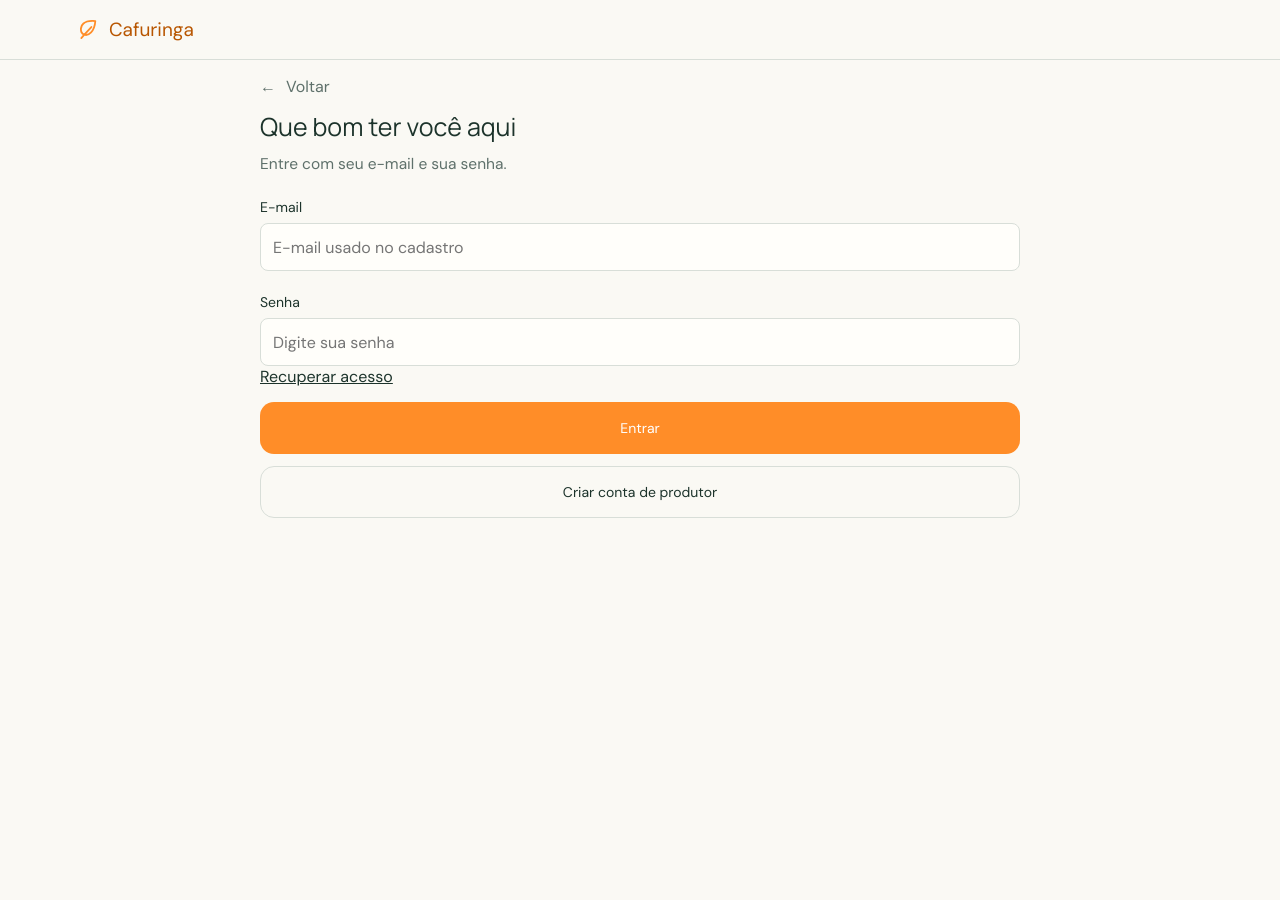
Test case: HU09 — fluxo de autenticação no app › leva o consumidor autenticado à área da conta com o nome dele
In the field labelled "E-mail": (640, 247) [260,223,1020,271], type "gabriela@exemplo.com"
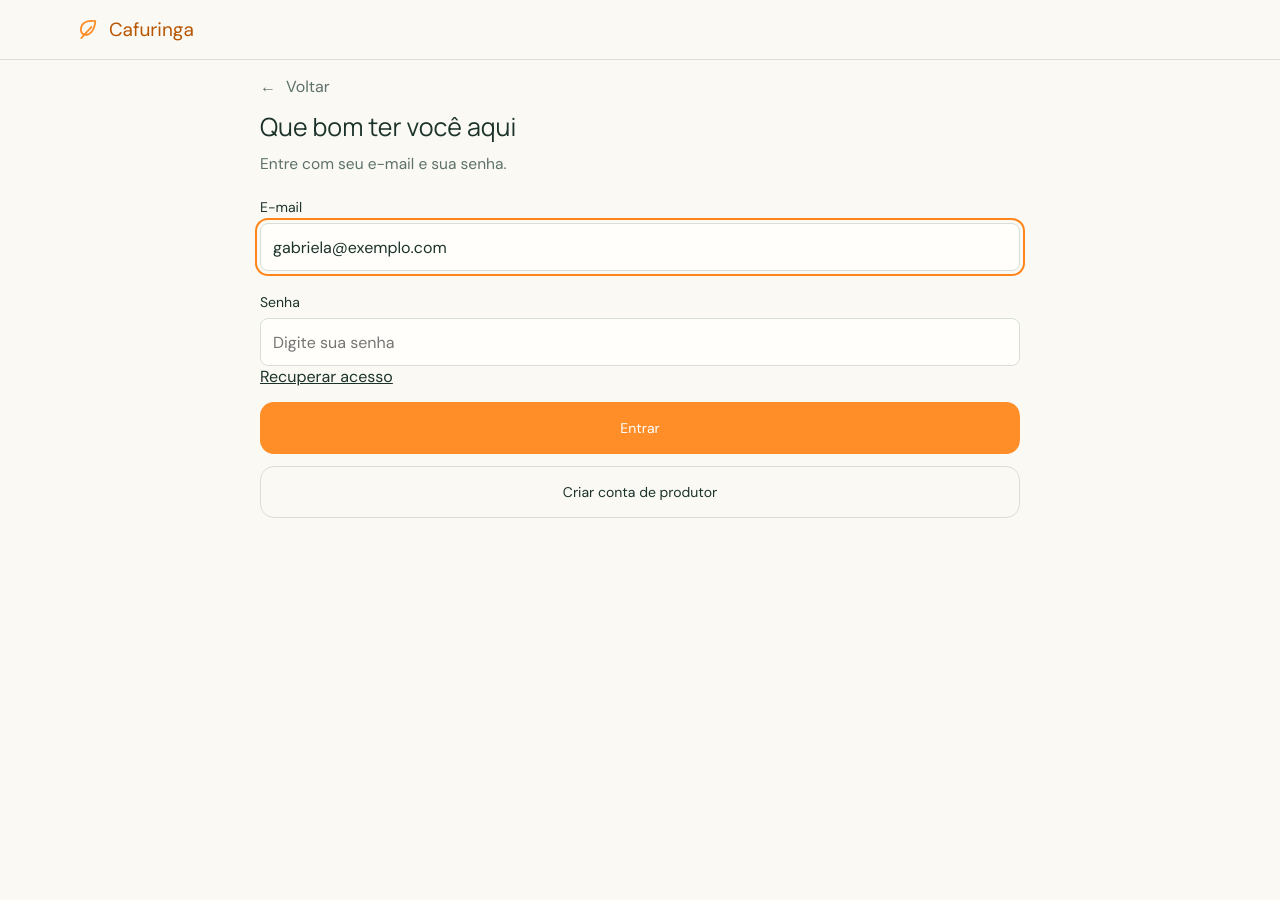
In the password field labelled "Senha": (640, 342) [260,318,1020,366], type "senha123"
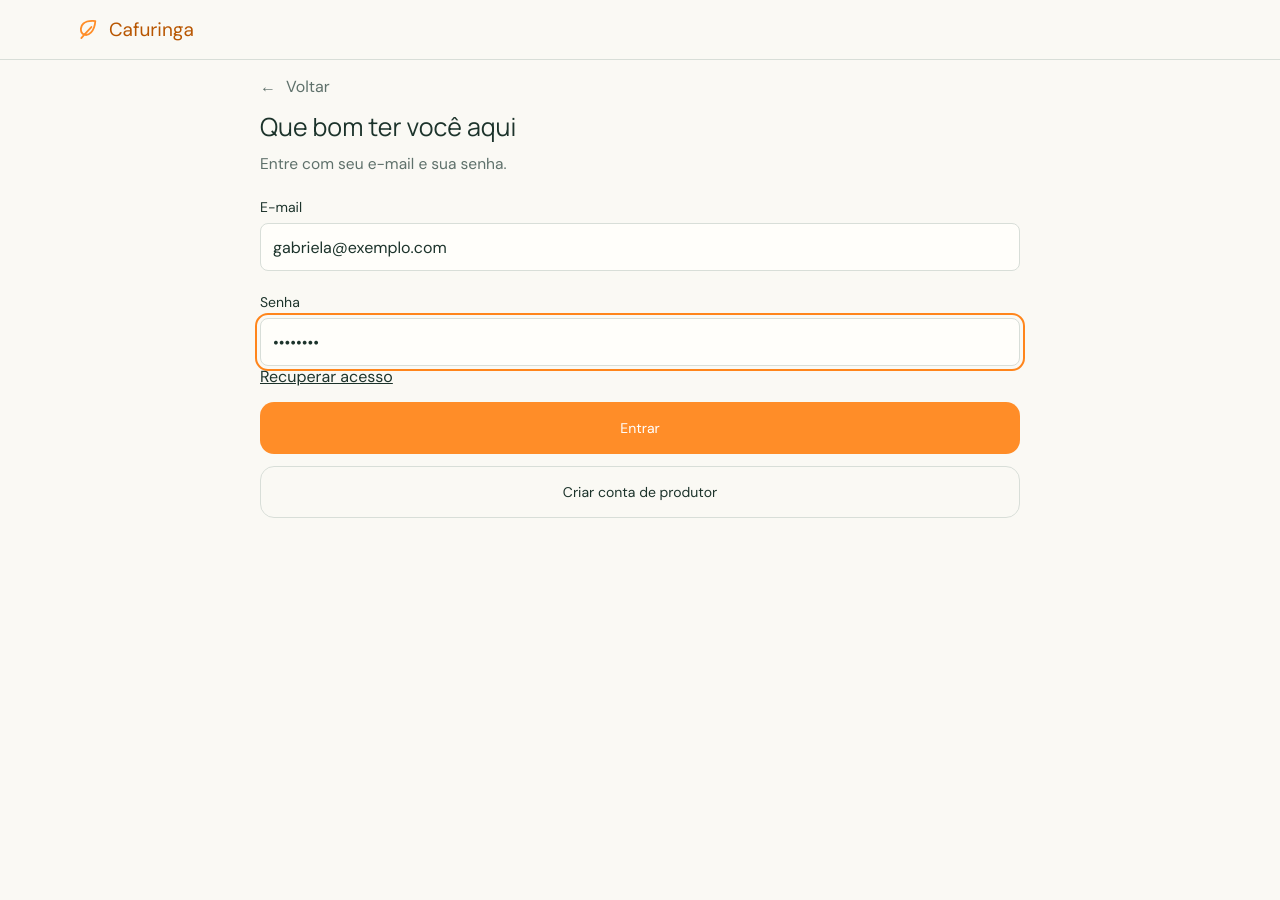
Click the button "Entrar": (640, 428) [260,402,1020,454]
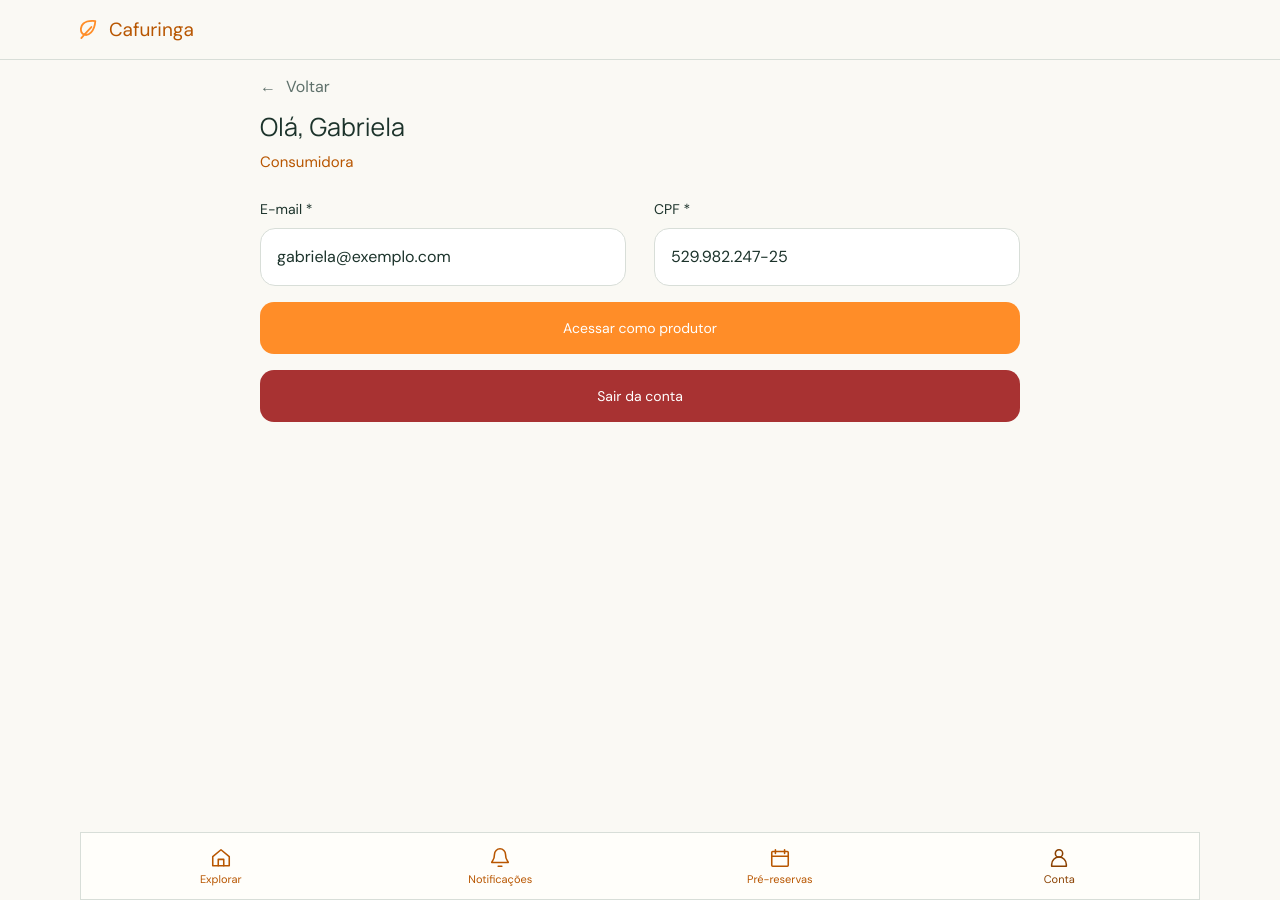
Expected: the heading "Olá, Gabriela" is shown, [260,109,405,144]
Expected: the field labelled "E-mail" holds "gabriela@exemplo.com", [260,228,626,286]
Expected: the field labelled "CPF" holds "529.982.247-25", [654,228,1020,286]
